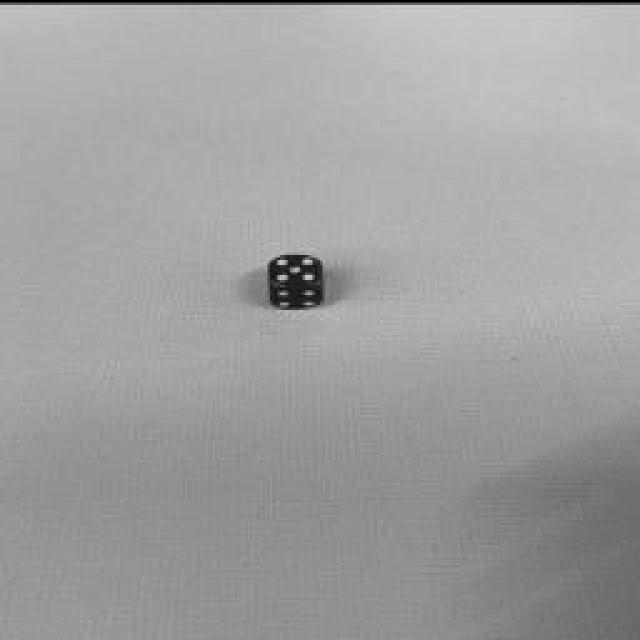dice_5: (270, 252, 322, 282)
